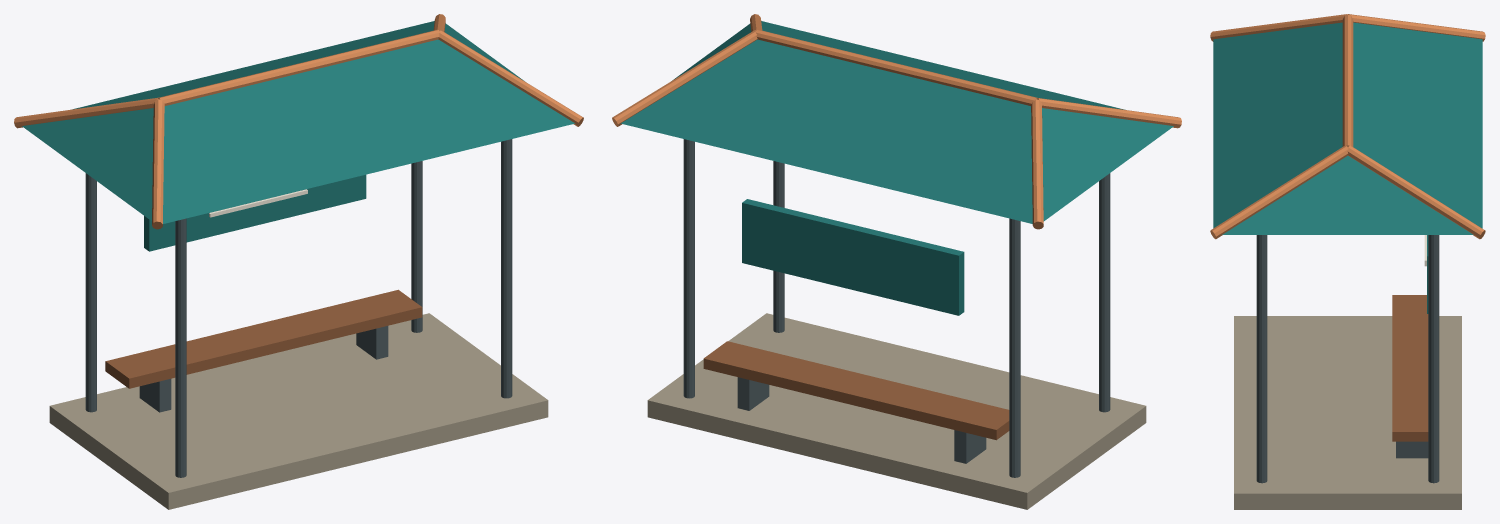
File: 041_roadside_bus_shelter.glb
3 views of the same model, side by side, from view 1: azimuth 30°, elevation 25°; view 2: azimuth 150°, elevation 25°; view 3: azimuth 270°, elevation 25° (orthographic). The views are drawn at different scales.
Parts seen in each view (by area): view 1: Roadside bus shelter; view 2: Roadside bus shelter; view 3: Roadside bus shelter.
Part boxes in pixels (<box>): Roadside bus shelter: <box>14,14,583,509</box>; Roadside bus shelter: <box>612,14,1181,509</box>; Roadside bus shelter: <box>1210,14,1485,509</box>.
Size of the model in its own units: 3.98 by 3.13 by 2.29.
